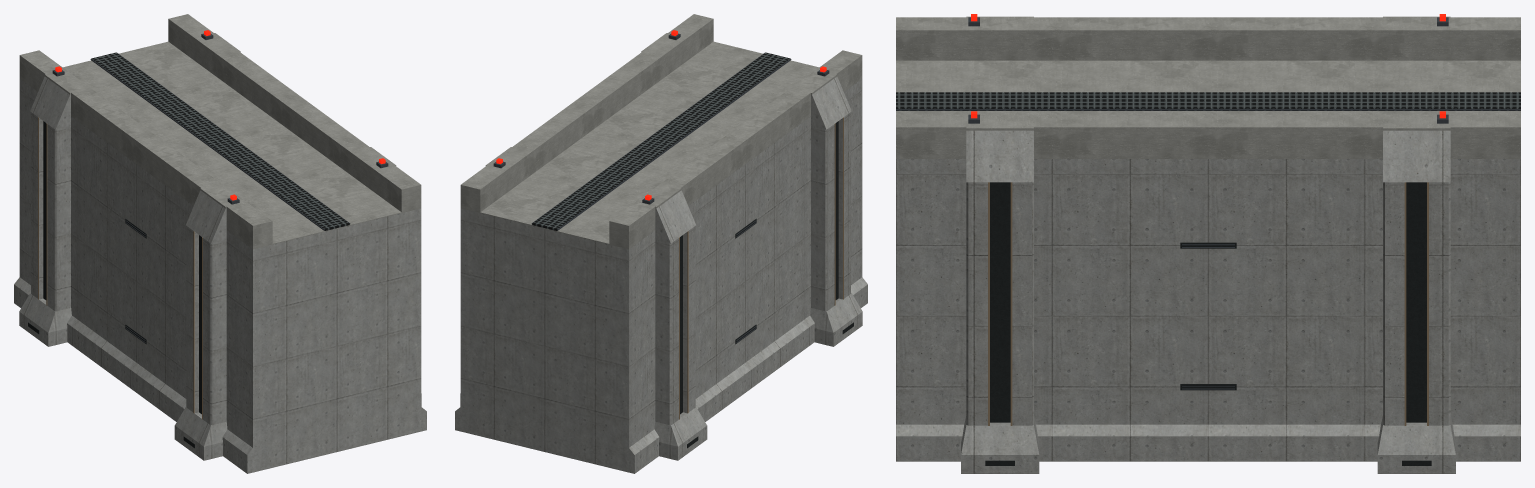
File: straight.glb
The picture shows the model from 3 angles, left to right: view 1: azimuth 30°, elevation 25°; view 2: azimuth 150°, elevation 25°; view 3: azimuth 270°, elevation 25°; orthographic projection. The views are drawn at different scales.
Parts seen in each view (by area): view 1: straight-lod0-roof0, straight-lod0-base0, straight-lod0-floor0; view 2: straight-lod0-roof0, straight-lod0-base0, straight-lod0-floor0; view 3: straight-lod0-roof0, straight-lod0-base0, straight-lod0-floor0.
Boxes of the visible parts, x1,y1,x2,y2 form: straight-lod0-roof0: [19, 14, 421, 260]; straight-lod0-base0: [14, 196, 426, 473]; straight-lod0-floor0: [19, 90, 421, 366]; straight-lod0-roof0: [460, 14, 862, 260]; straight-lod0-base0: [455, 196, 867, 473]; straight-lod0-floor0: [460, 90, 862, 366]; straight-lod0-roof0: [896, 14, 1520, 185]; straight-lod0-base0: [896, 316, 1520, 473]; straight-lod0-floor0: [896, 174, 1520, 326].
Size of what is drawn, in the model's own units: 38.92 by 43.07 by 72.
Materials: 7 (6 with a texture image).
